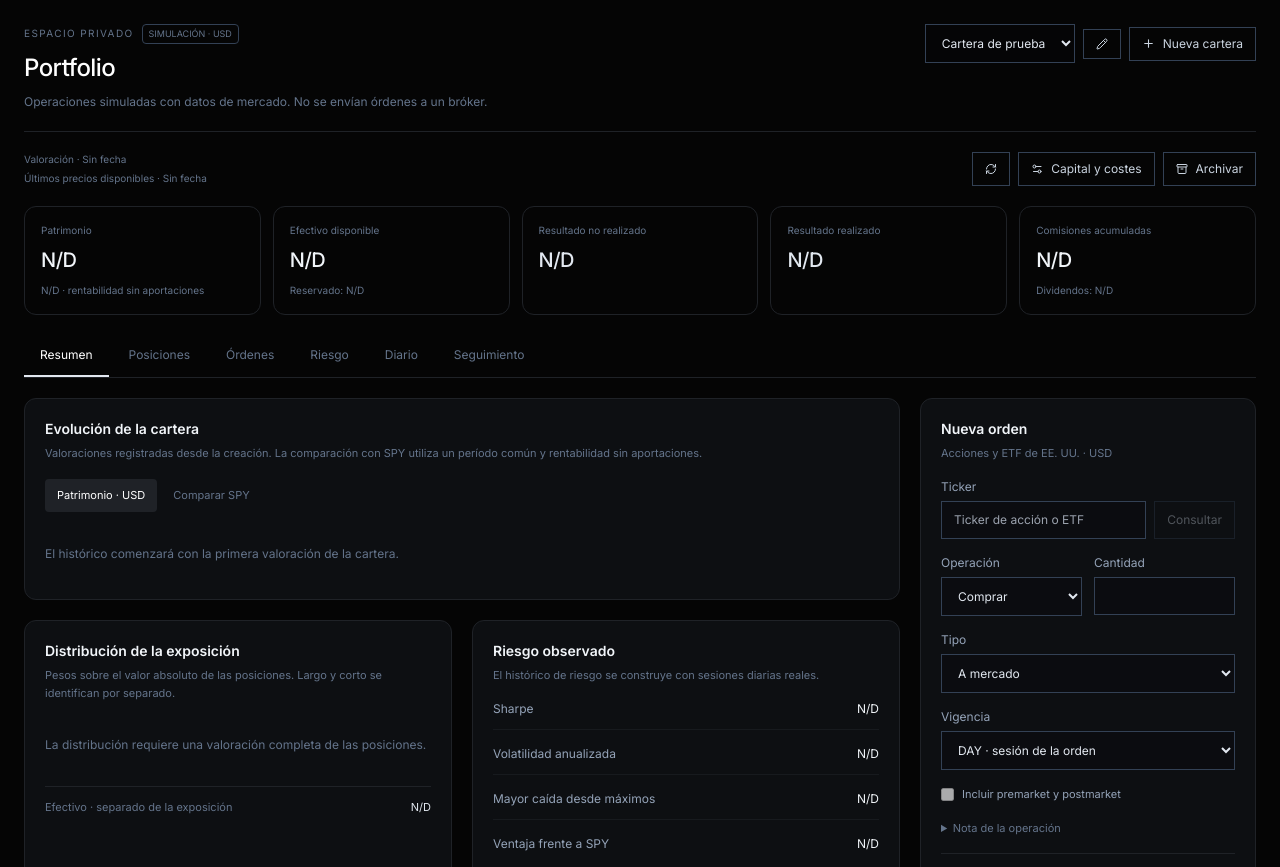
Test: keeps market orders unavailable outside regular trading and permits a priced limit preview
expect the heading "Nueva orden" is shown: met, box [941,420,1027,437]
Type "AAPL" into the field named "Ticker para operar" at point(1044, 520), box [941,501,1146,539]
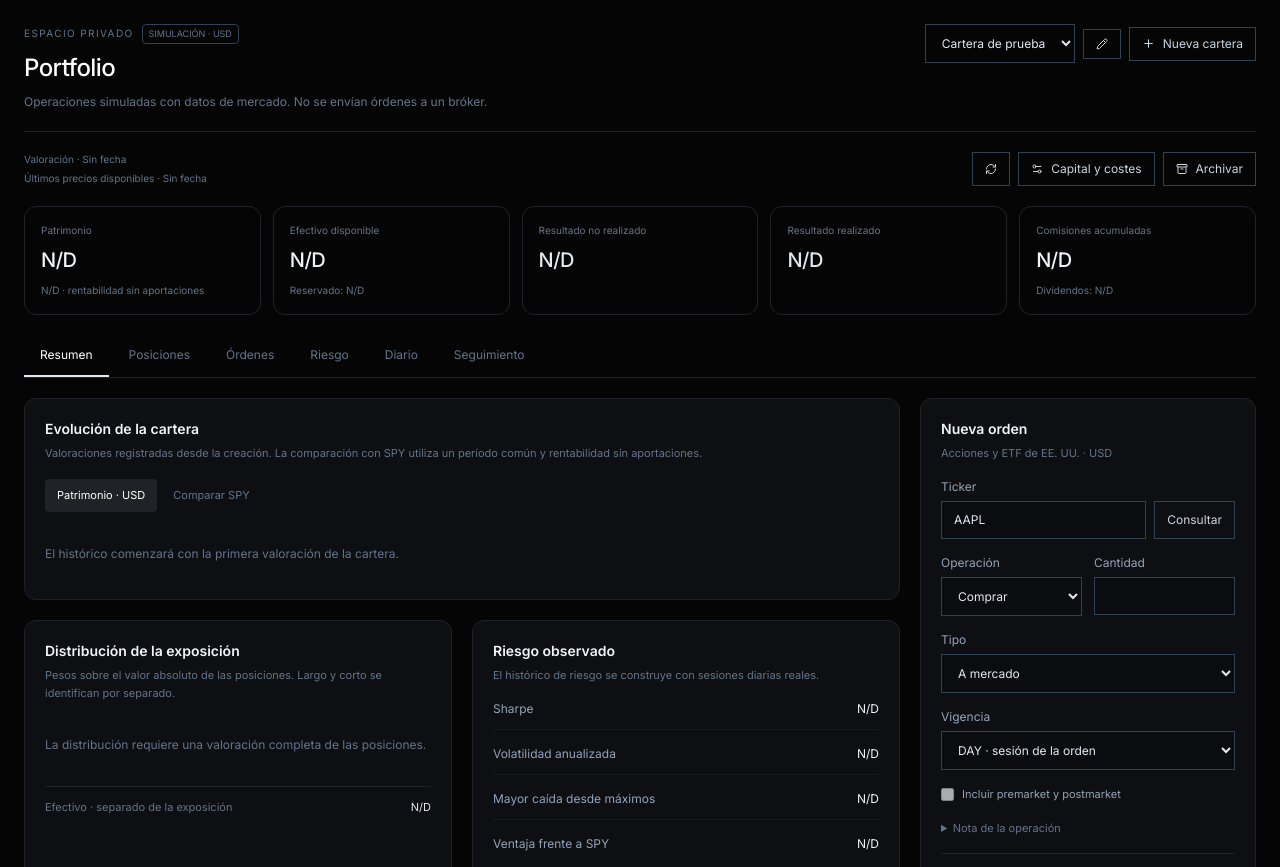
Click the button "Consultar" at point(1195, 520), box [1154,501,1235,539]
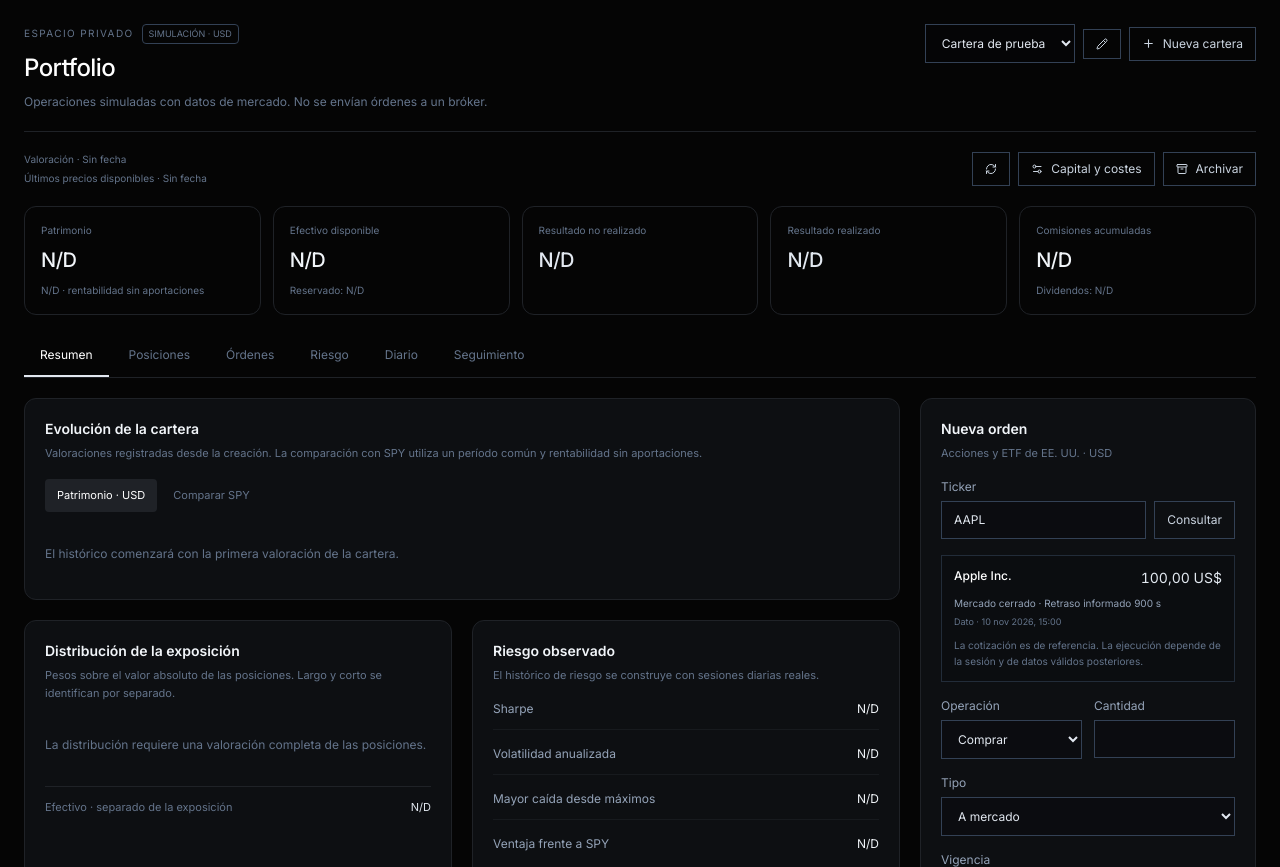
expect the text "Apple Inc." is shown: met, box [954,568,1012,584]
Type "2" into the number field named "Cantidad de la orden" at point(1164, 739), box [1094,720,1235,758]
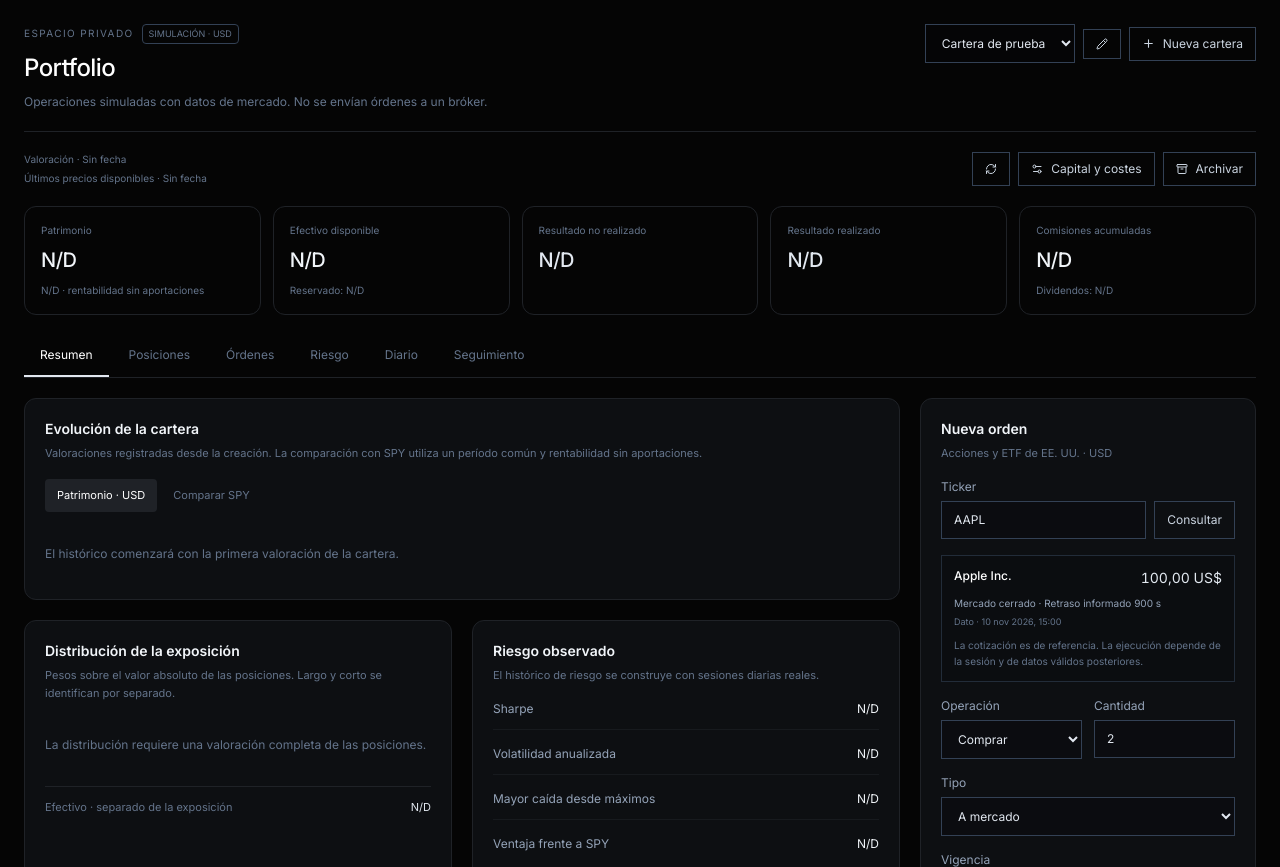
Select "Limitada" in the dropdown named "Tipo de orden" at point(1088, 817), box [941,797,1235,836]
(page scrolled)
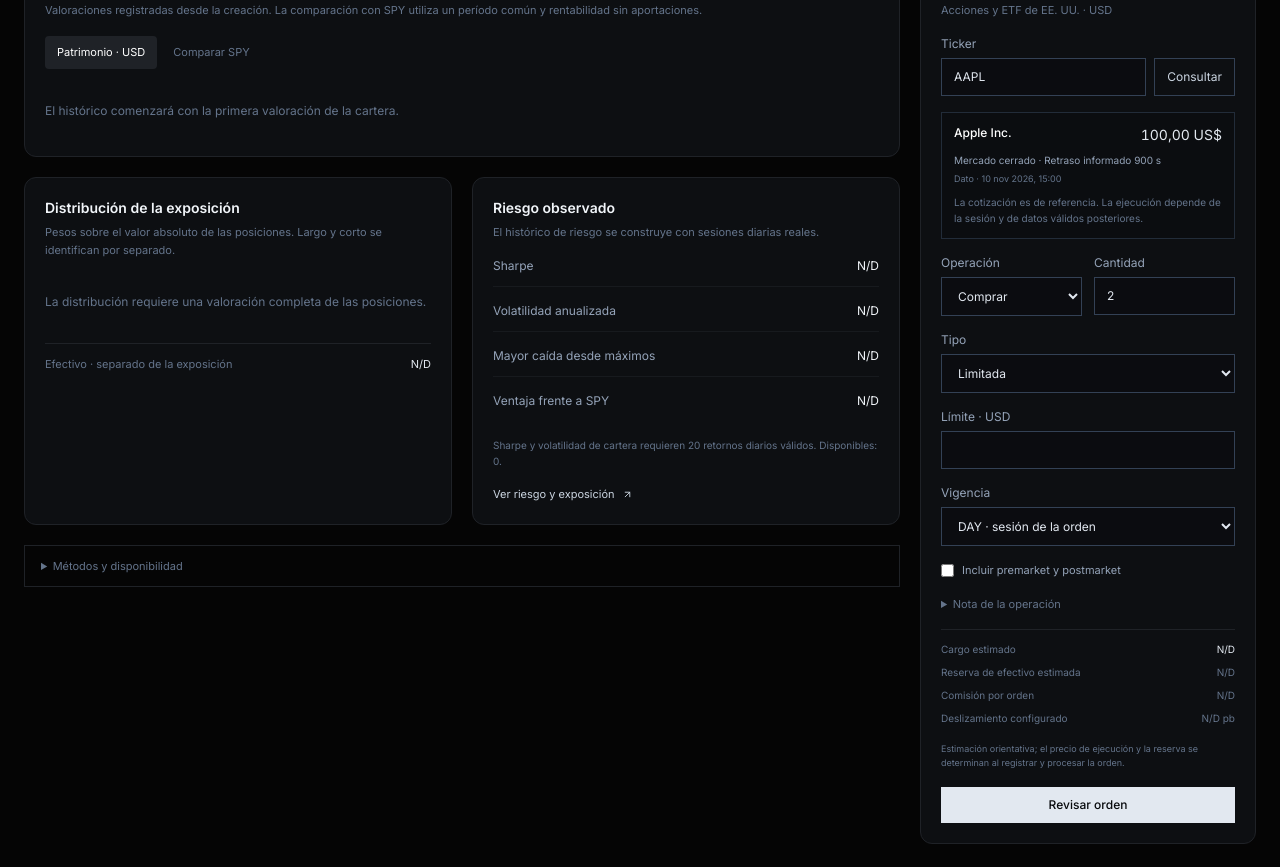
Type "98" into the number field named "Precio límite USD" at point(1088, 450), box [941,431,1235,469]
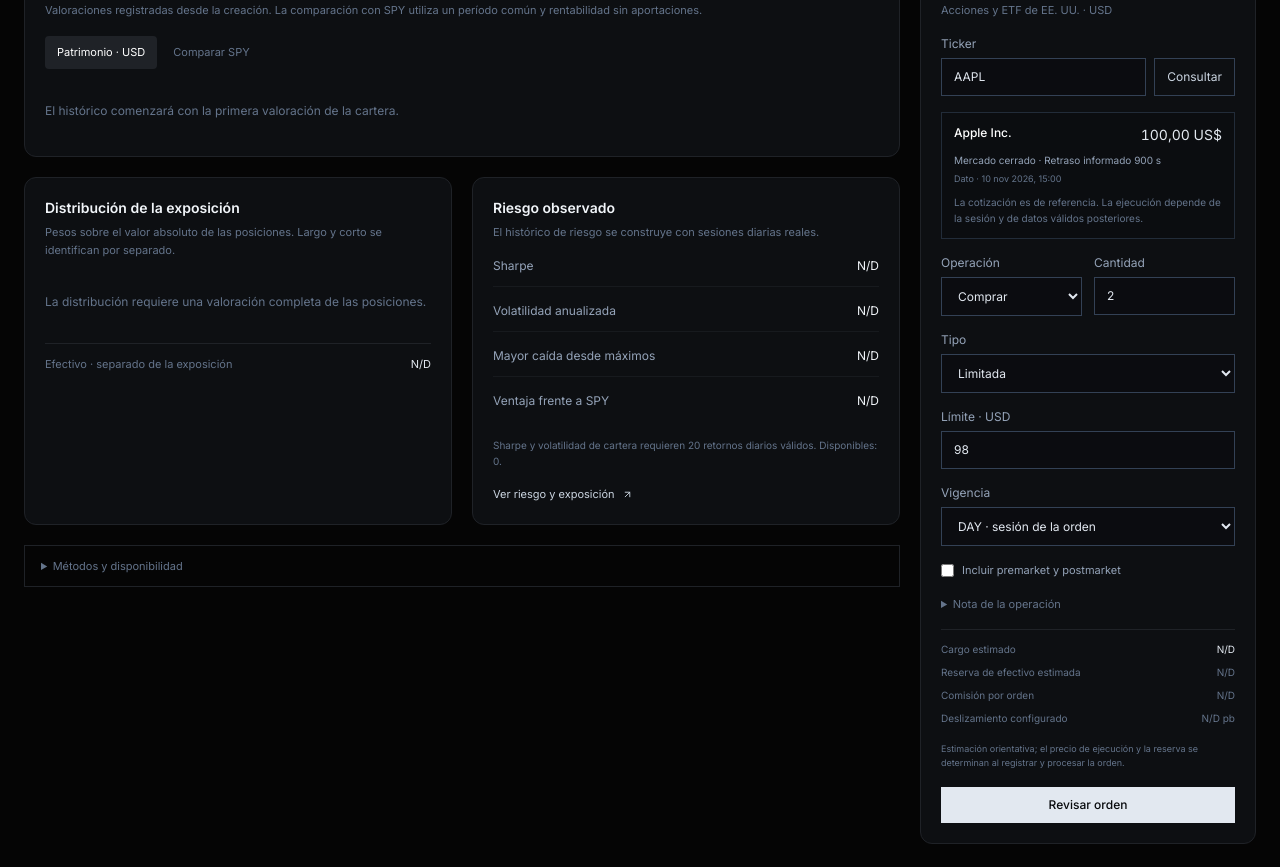
Click the button "Revisar orden" at point(1088, 805), box [941,787,1235,823]
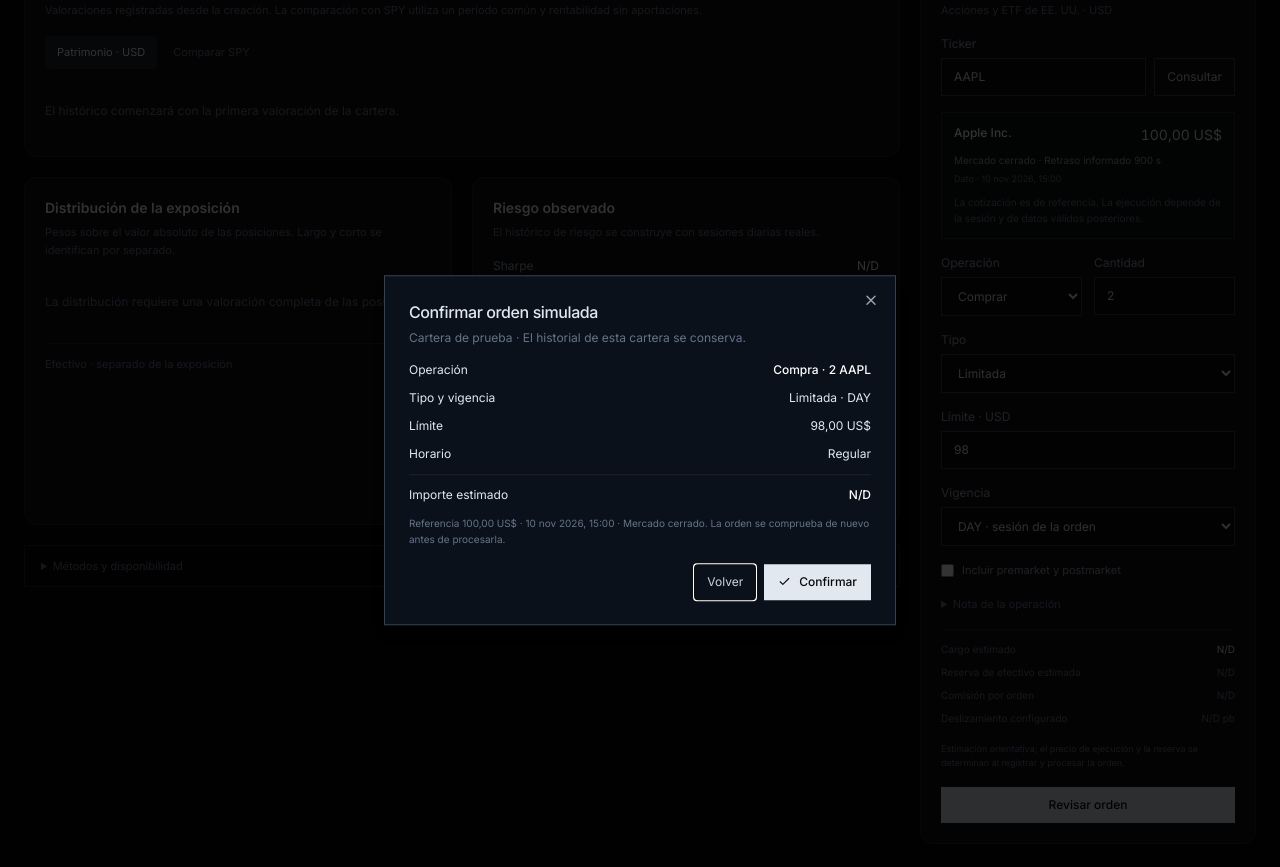
expect the dialog is shown: met, box [384,275,896,625]
